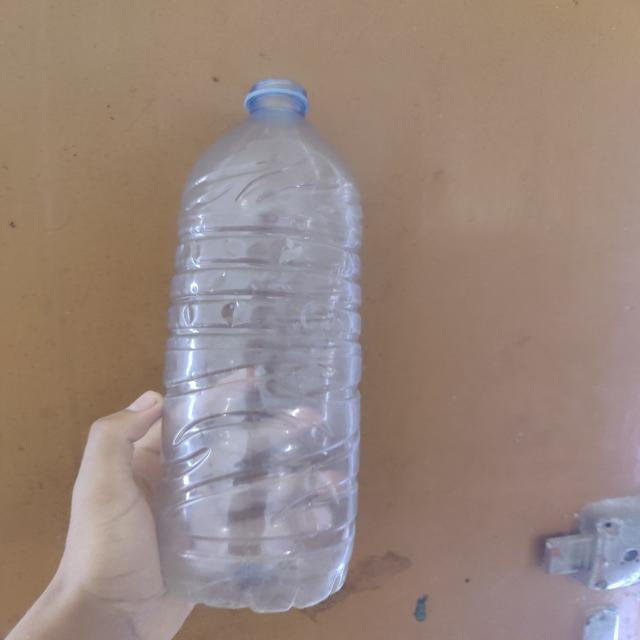plastic: (162, 75, 355, 602)
